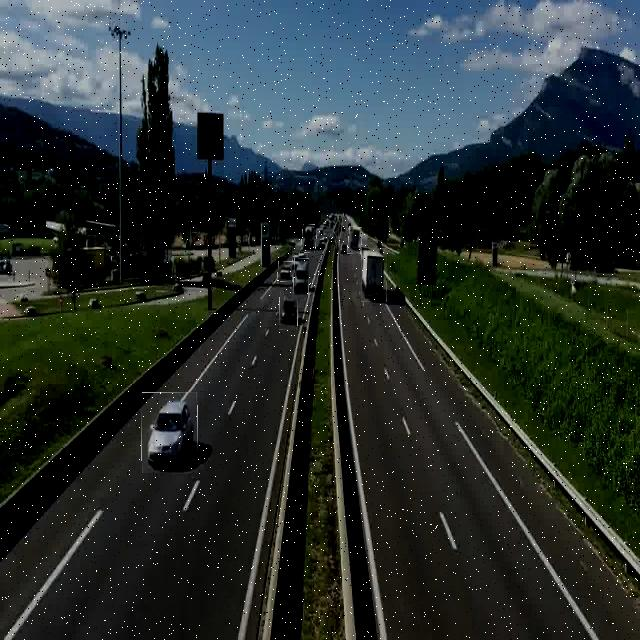Car: (142, 392, 198, 473), (280, 292, 298, 330), (294, 258, 309, 295), (278, 262, 293, 282)
Truck: (361, 248, 387, 302), (302, 225, 316, 253), (348, 227, 361, 254)
